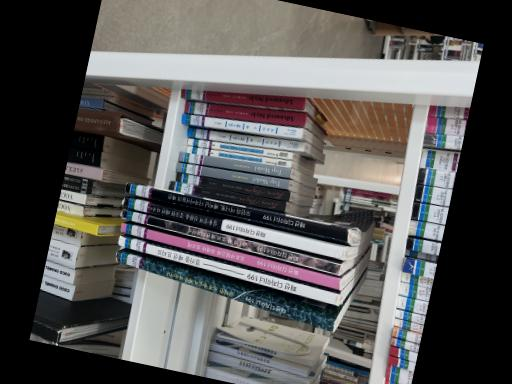book-spine: (115, 252, 334, 332), (118, 236, 338, 306), (120, 223, 340, 290), (120, 209, 340, 275), (121, 197, 344, 259), (124, 184, 348, 241), (167, 181, 286, 211), (174, 172, 289, 201), (175, 162, 289, 189), (183, 101, 306, 126), (181, 114, 302, 139), (177, 152, 290, 177), (187, 128, 304, 152), (180, 89, 305, 109), (185, 146, 290, 168), (186, 138, 292, 159)
